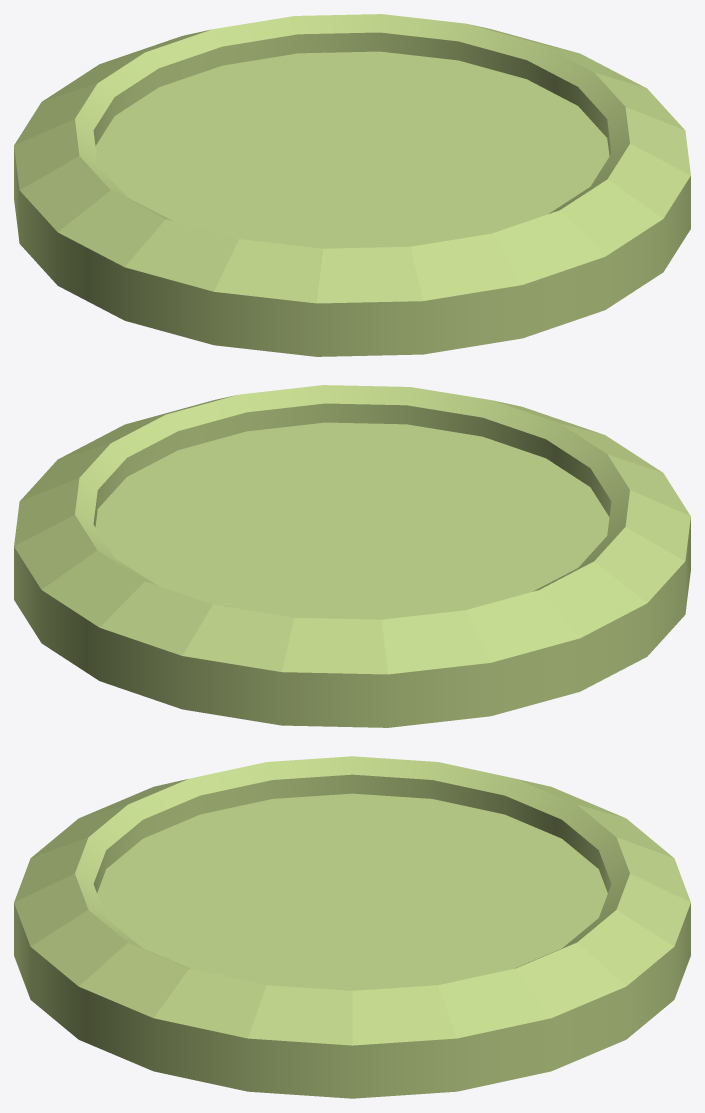
The model's file is pool 1.fbx.
The picture shows the model from 3 angles, top to bottom: view 1: azimuth 30°, elevation 25°; view 2: azimuth 150°, elevation 25°; view 3: azimuth 270°, elevation 25°; orthographic projection.
Parts seen in each view (by area): view 1: pool; view 2: pool; view 3: pool.
Boxes of the visible parts, box(x1,y1,x2,y2) form: pool: box(14, 14, 690, 356); pool: box(14, 385, 690, 727); pool: box(14, 756, 690, 1098).
Bounding box in the file's own units: 0.2678 × 0.0358 × 0.2678.
